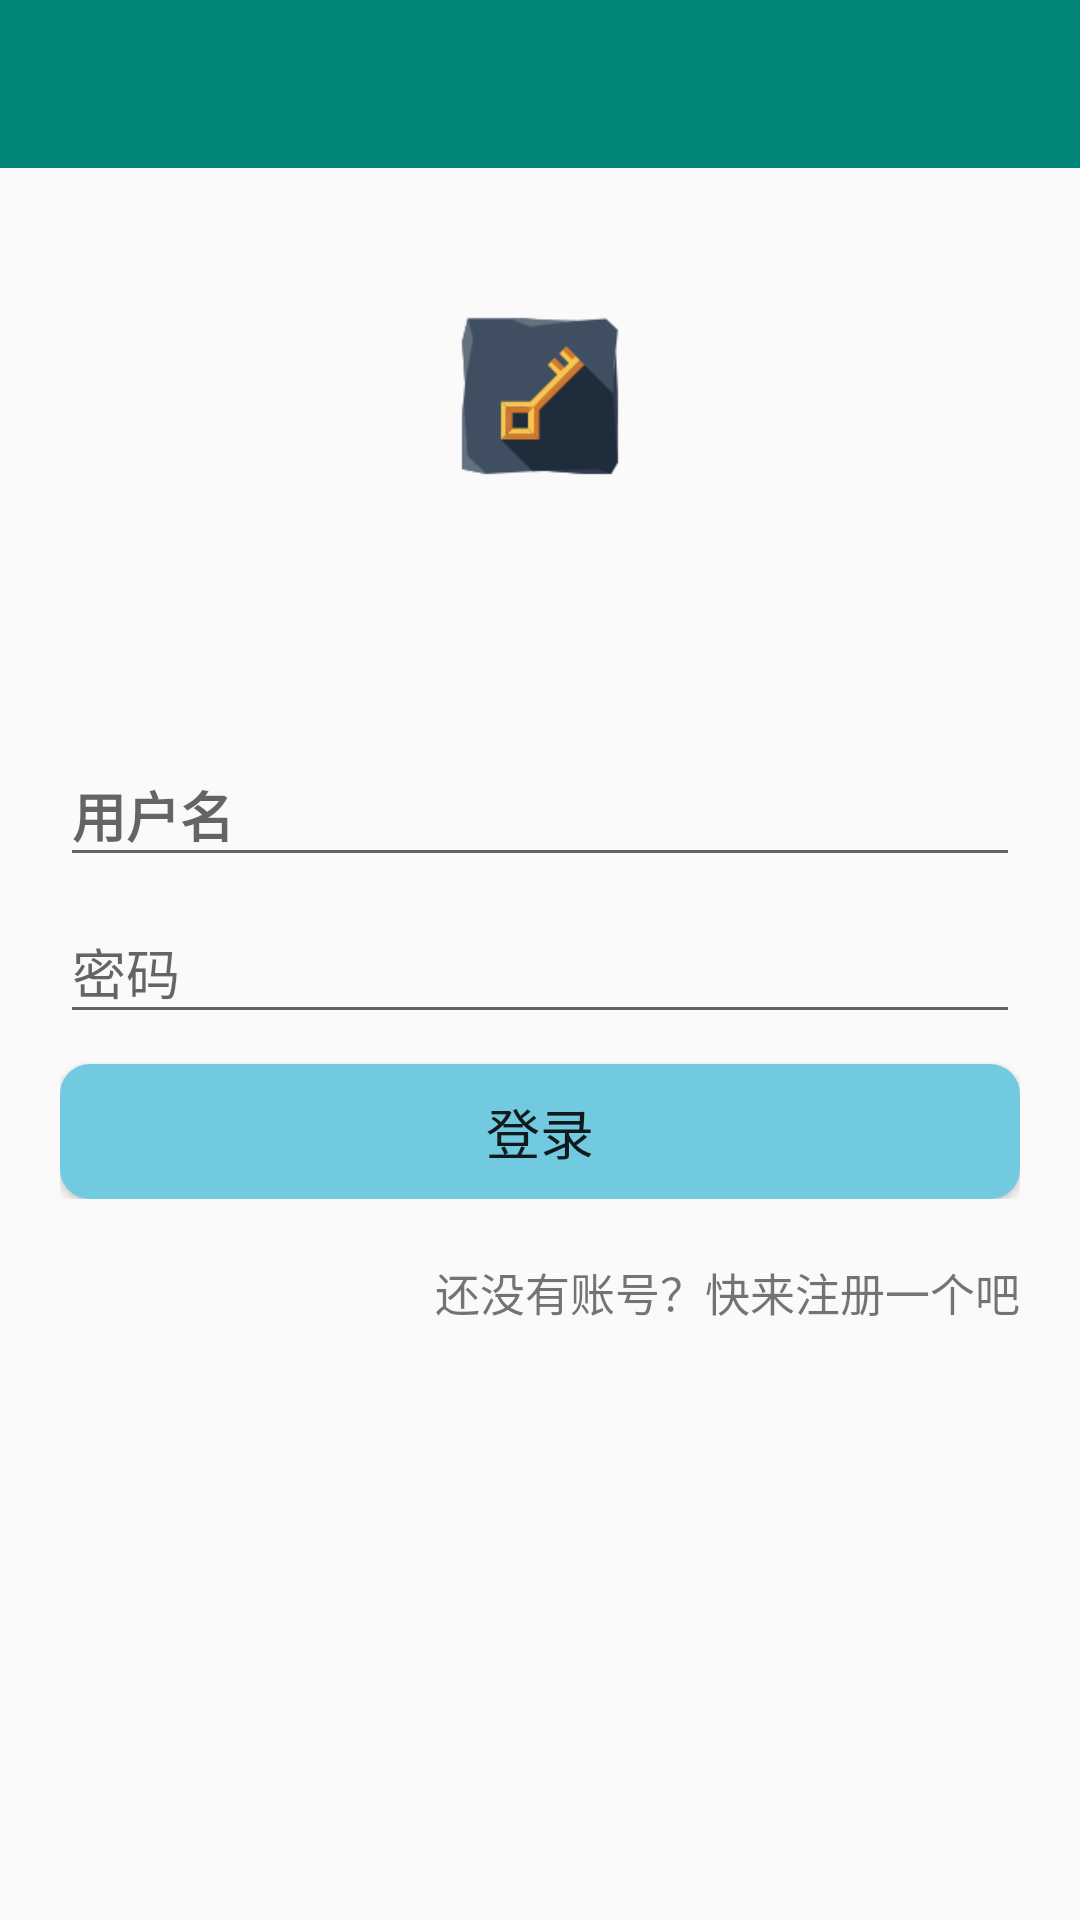

Icon bounding boxes for this 1080w x 1920h phone screenshot, format BBox(x1, y1, x2, y2):
key loginactivity: BBox(461, 317, 619, 475)
